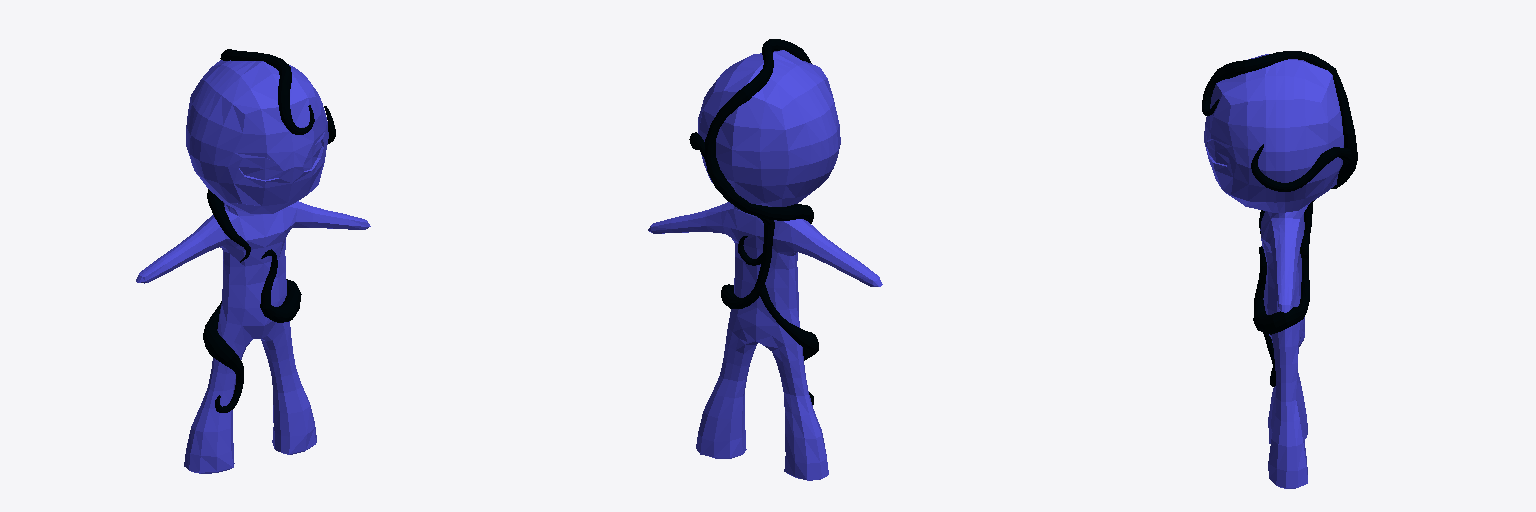
File: SM_character.obj
3 renders of one model, left to right at view 1: azimuth 30°, elevation 25°; view 2: azimuth 150°, elevation 25°; view 3: azimuth 270°, elevation 25°, orthographic.
Parts seen in each view (by area): view 1: Box001, Line001, Line005, Line003; view 2: Box001, Line001, Line003, Line005; view 3: Box001, Line001, Line003, Line002.
Boxes of the visible parts, x1=… form: Box001: x1=136, y1=60, x2=370, y2=473; Line001: x1=207, y1=49, x2=314, y2=262; Line005: x1=203, y1=301, x2=243, y2=412; Line003: x1=260, y1=249, x2=301, y2=322; Box001: x1=648, y1=50, x2=882, y2=480; Line001: x1=705, y1=39, x2=813, y2=223; Line003: x1=721, y1=217, x2=774, y2=308; Line005: x1=759, y1=285, x2=818, y2=404; Box001: x1=1204, y1=54, x2=1343, y2=488; Line001: x1=1202, y1=51, x2=1357, y2=233; Line003: x1=1253, y1=200, x2=1314, y2=334; Line002: x1=1251, y1=144, x2=1351, y2=191.
Bounding box in the file's own units: 30.82 × 51.51 × 17.89.